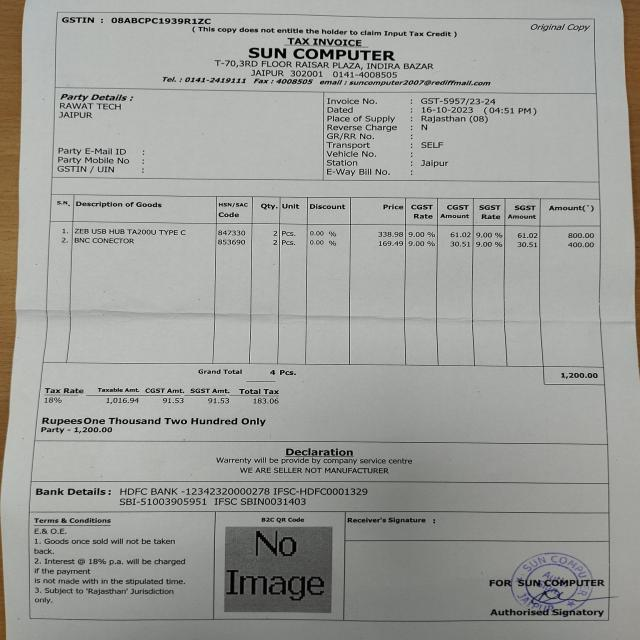paragraph: (344, 514, 622, 621), (42, 87, 318, 177), (161, 26, 514, 86), (324, 90, 548, 181), (32, 512, 198, 611), (220, 515, 336, 616), (176, 360, 614, 381), (199, 440, 423, 478), (32, 485, 376, 508), (35, 415, 278, 437), (59, 12, 223, 25), (515, 20, 593, 34)
table: (36, 191, 603, 286), (40, 386, 295, 406)
